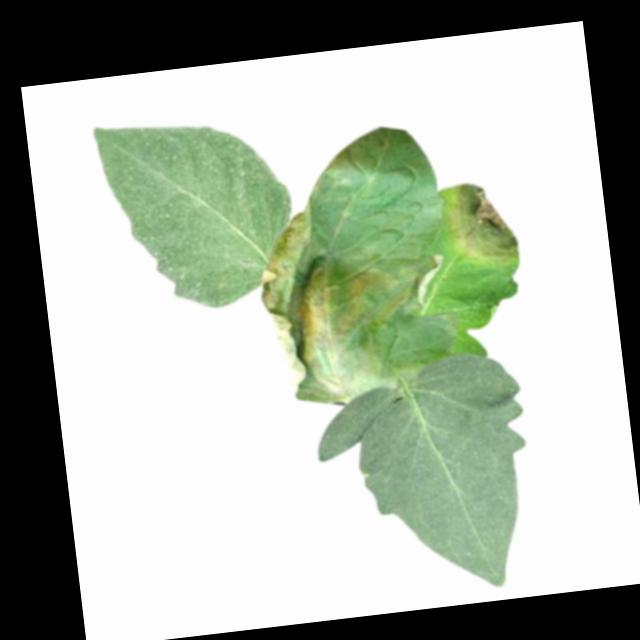Late_blight: (250, 195, 370, 412), (438, 176, 523, 270), (409, 251, 448, 312)
healthy: (310, 347, 547, 606), (92, 105, 304, 318)
